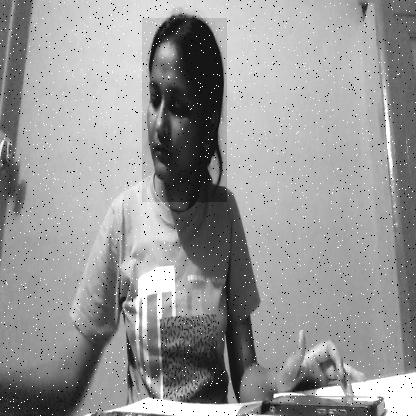Distracted: (142, 18, 227, 202)
